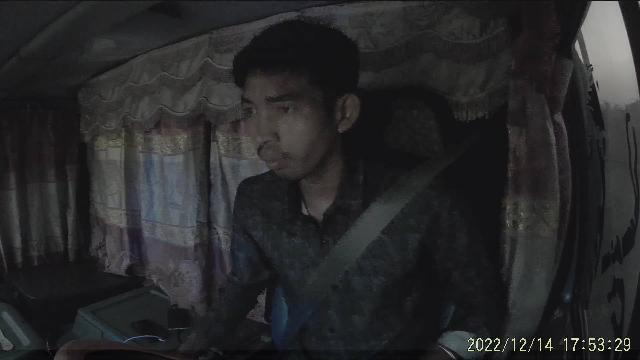SafeDriving: (270, 96, 302, 118)
Seatbelt: (312, 160, 454, 310)
